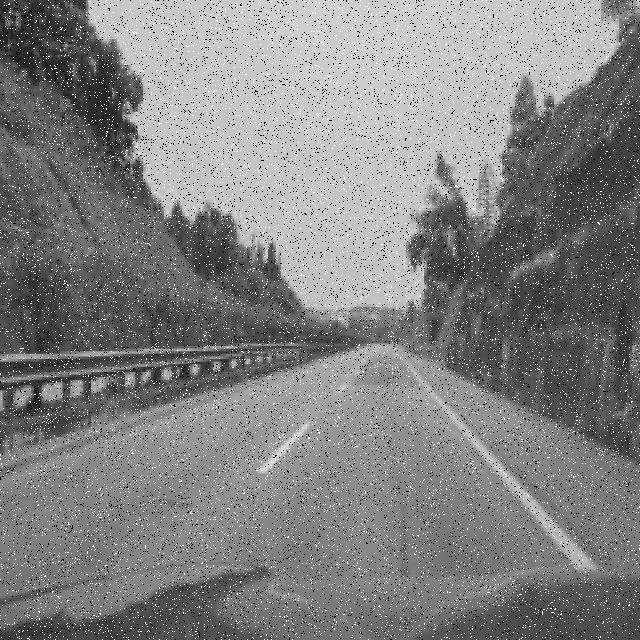clear-road: (0, 345, 640, 601)
